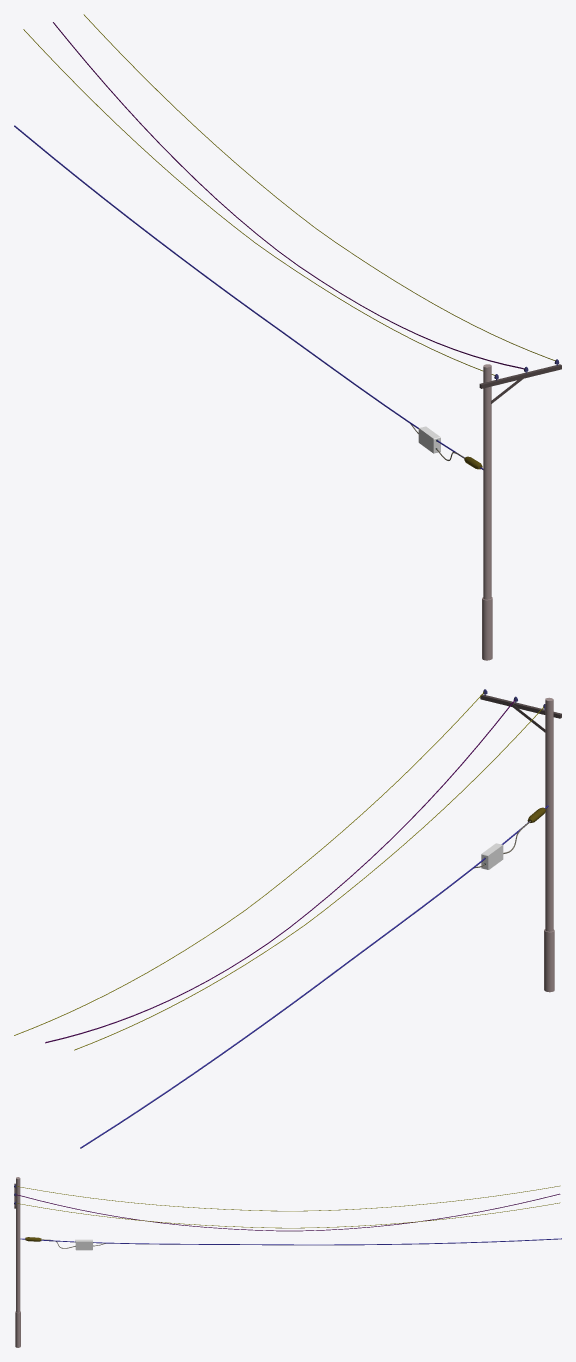
Rendered from Poste 3_UV.fbx.
3 renders of one model, top to bottom at view 1: azimuth 30°, elevation 25°; view 2: azimuth 150°, elevation 25°; view 3: azimuth 270°, elevation 25°, orthographic. The views are drawn at different scales.
Visible parts, largest first — view 1: Cylinder024, Cylinder052, Cylinder027; view 2: Cylinder024, Cylinder052, Cylinder027, Cylinder038, Cylinder026; view 3: Cylinder024, Cylinder052, Cylinder027, Cylinder038, Cylinder026.
Boxes of the visible parts, box(x1,y1,x2,y2) form: Cylinder024: box(482, 364, 492, 660); Cylinder052: box(14, 125, 483, 469); Cylinder027: box(53, 22, 524, 369); Cylinder024: box(544, 697, 554, 992); Cylinder052: box(80, 805, 548, 1148); Cylinder027: box(45, 700, 515, 1043); Cylinder038: box(14, 692, 483, 1035); Cylinder026: box(74, 707, 543, 1050); Cylinder024: box(15, 1177, 20, 1347); Cylinder052: box(20, 1238, 561, 1245); Cylinder027: box(16, 1193, 560, 1231); Cylinder038: box(16, 1202, 560, 1228); Cylinder026: box(16, 1185, 560, 1211).
Bounding box in the file's own units: 53.58 × 186 × 548.
